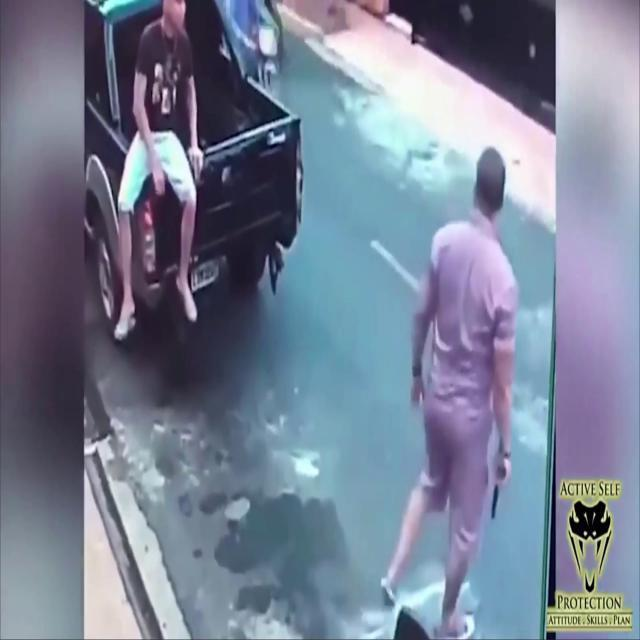gun: (489, 462, 506, 520)
